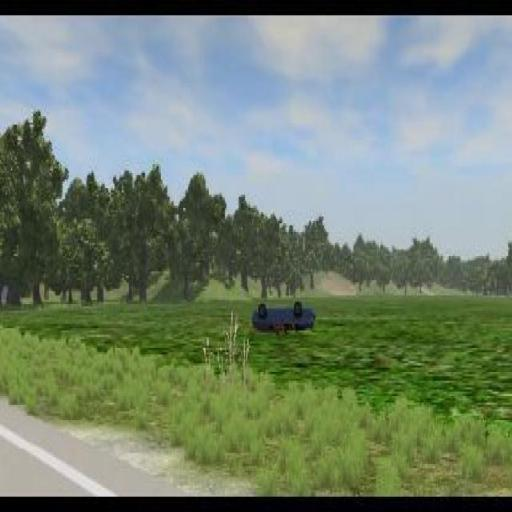小汽车: (246, 301, 324, 336)
